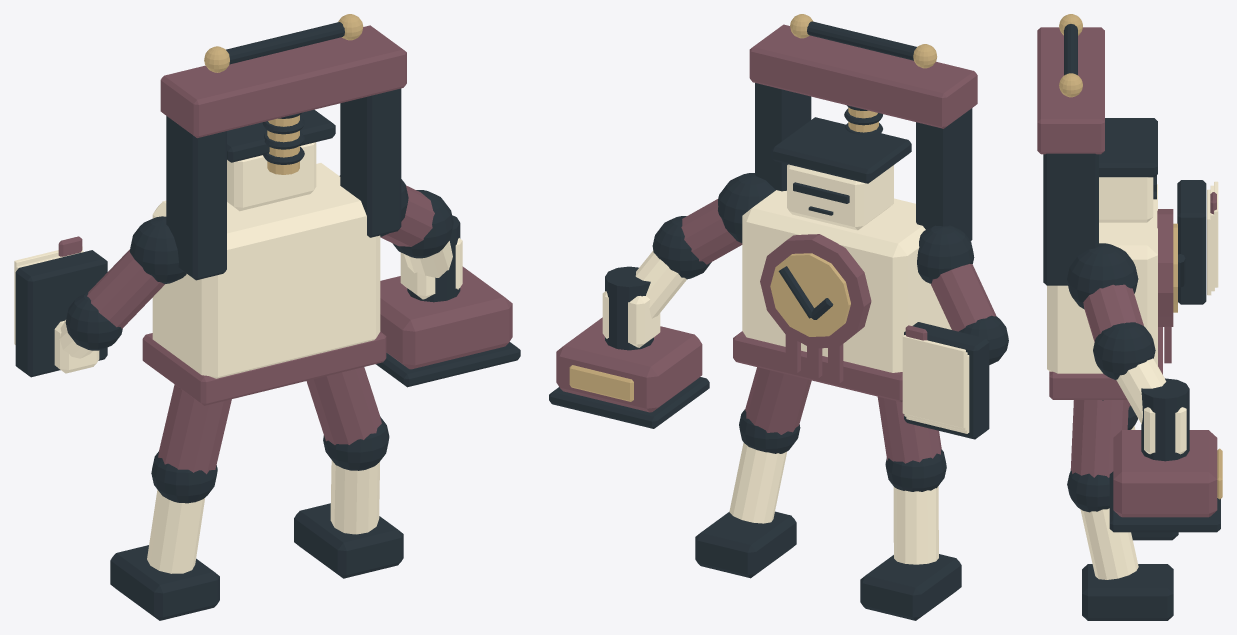
The picture shows the model from 3 angles, left to right: view 1: azimuth 30°, elevation 25°; view 2: azimuth 150°, elevation 25°; view 3: azimuth 270°, elevation 25°; orthographic projection. The views are drawn at different scales.
Parts seen in each view (by area): view 1: press_chest, press_arch_lintel, stamp_enforcement_head, press_arch_left, press_arch_right, testimony_binding, press_belt, left_shoe, right_shoe, left_thigh, right_thigh, notary_face (+17 smaller); view 2: press_chest, press_arch_lintel, stamp_enforcement_head, press_arch_left, notary_brow, testimony_sheet_2, left_shoe, right_shoe, seal_outer, seal_inner, notary_face, press_arch_right (+20 smaller); view 3: stamp_enforcement_head, press_arch_lintel, press_chest, press_arch_right, right_shoe, right_thigh, testimony_binding, notary_brow, right_arm_shoulder_joint, stamp_grip, right_shin, right_arm_elbow_joint (+18 smaller).
Part boxes in pixels (box(x1,y1,x2,y2)): press_chest: box(152, 163, 380, 378); press_arch_lintel: box(160, 25, 406, 138); stamp_enforcement_head: box(380, 266, 512, 369); press_arch_left: box(166, 116, 226, 280); press_arch_right: box(340, 88, 401, 237); testimony_binding: box(15, 250, 107, 377); press_belt: box(142, 332, 386, 405); left_shoe: box(110, 545, 219, 620); right_shoe: box(294, 503, 403, 578); left_thigh: box(158, 384, 231, 474); right_thigh: box(306, 367, 381, 444); notary_face: box(227, 142, 316, 211); press_chest: box(742, 190, 951, 372); press_arch_lintel: box(749, 24, 977, 128); stamp_enforcement_head: box(556, 317, 702, 412); press_arch_left: box(916, 108, 972, 240); notary_brow: box(771, 117, 911, 183); testimony_sheet_2: box(902, 335, 965, 428); left_shoe: box(860, 554, 961, 620); right_shoe: box(695, 511, 796, 578); seal_outer: box(760, 234, 871, 348); seal_inner: box(770, 253, 850, 336); notary_face: box(787, 164, 893, 230); press_arch_right: box(755, 83, 811, 191); stamp_enforcement_head: box(1113, 430, 1217, 517); press_arch_lintel: box(1037, 27, 1104, 154); press_chest: box(1047, 184, 1157, 373); press_arch_right: box(1043, 153, 1098, 285); right_shoe: box(1082, 564, 1173, 620); right_thigh: box(1070, 400, 1128, 477); testimony_binding: box(1177, 180, 1206, 304); notary_brow: box(1099, 118, 1157, 177); right_arm_shoulder_joint: box(1067, 243, 1138, 309); stamp_grip: box(1141, 378, 1189, 461); right_shin: box(1080, 508, 1138, 579); right_arm_elbow_joint: box(1093, 322, 1155, 379).
Bounding box in the file's own units: 1.99 × 2.38 × 0.7675.
